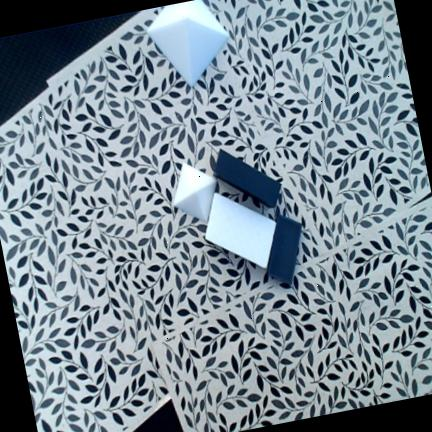Paralelepipedo: (205, 191, 277, 269), (214, 148, 281, 208), (267, 215, 302, 284)
Piramide: (146, 0, 231, 89), (173, 161, 217, 224)
